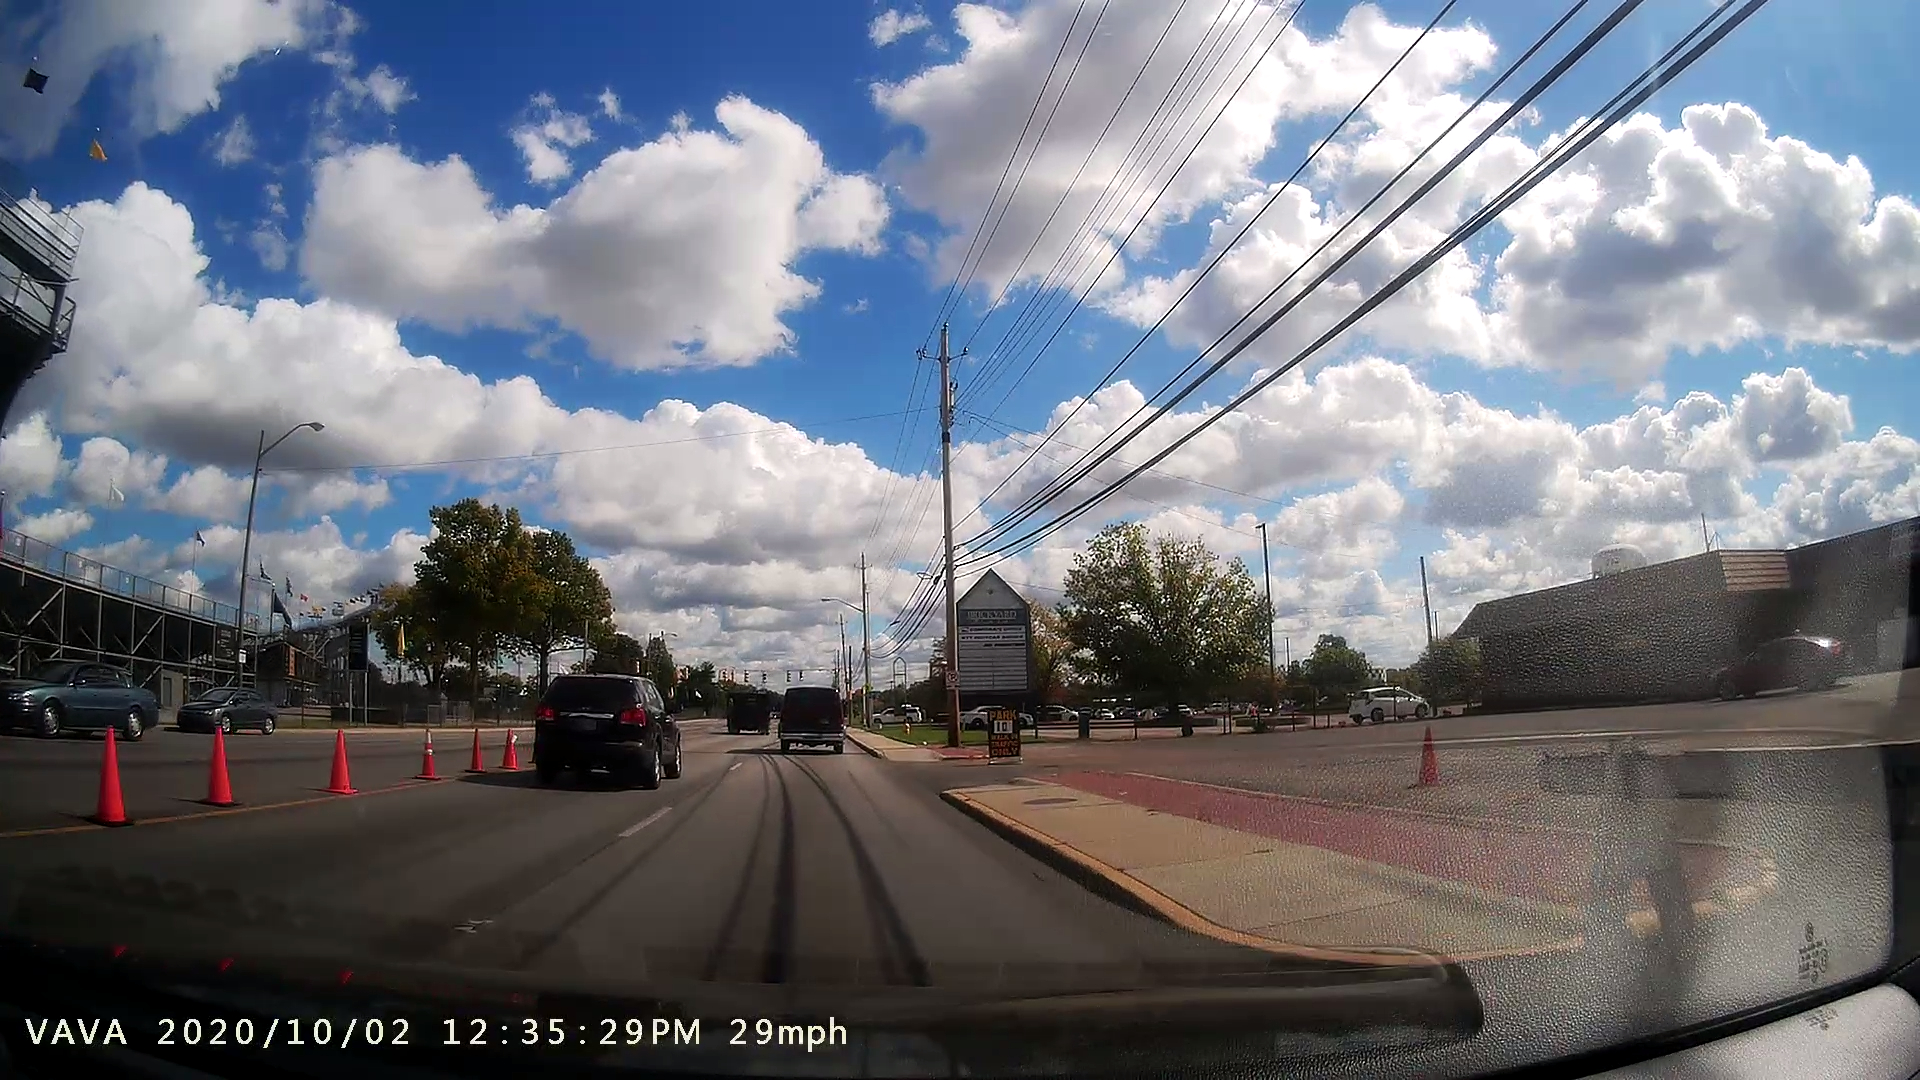const_cone: (80, 716, 152, 840), (193, 719, 255, 833), (310, 723, 364, 806), (459, 717, 497, 790), (407, 716, 447, 785), (496, 723, 530, 781)
